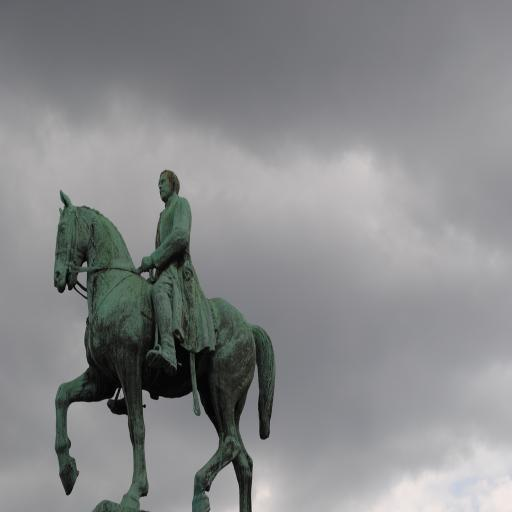horse: (54, 188, 276, 512)
